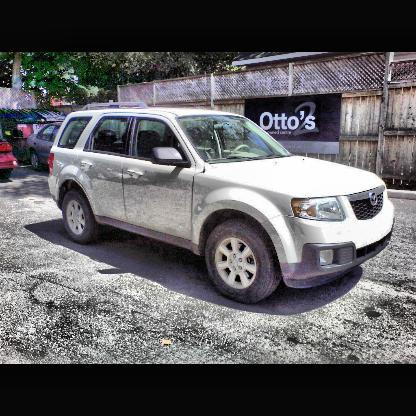Mazda Tribute SUV 2011: (48, 102, 394, 304)
